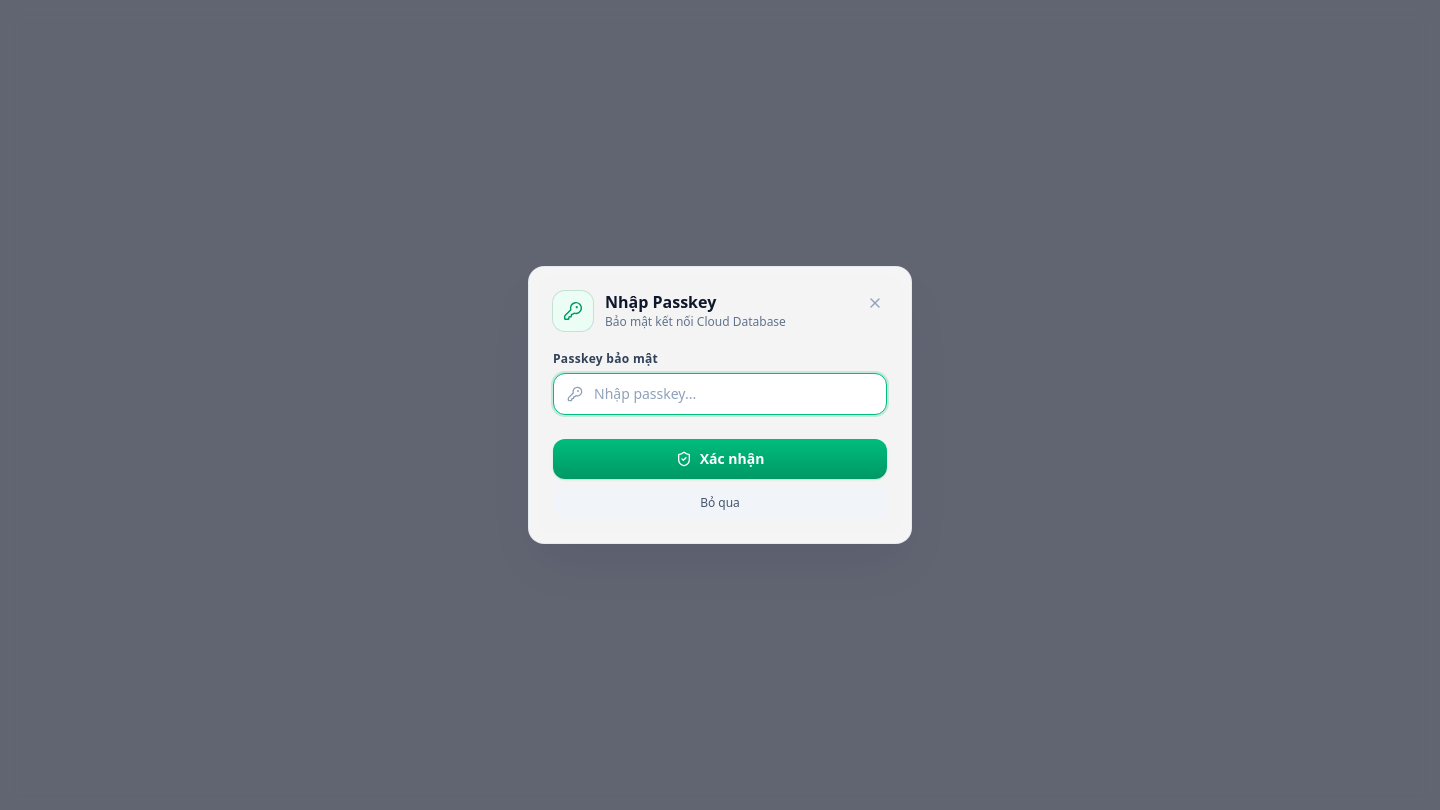
Test case: PasswordGateModal › shows an error and keeps the modal open when the password is wrong
Type "wrong" into the password field with placeholder "Nhập passkey..." at (720, 394), box [553,373,887,415]
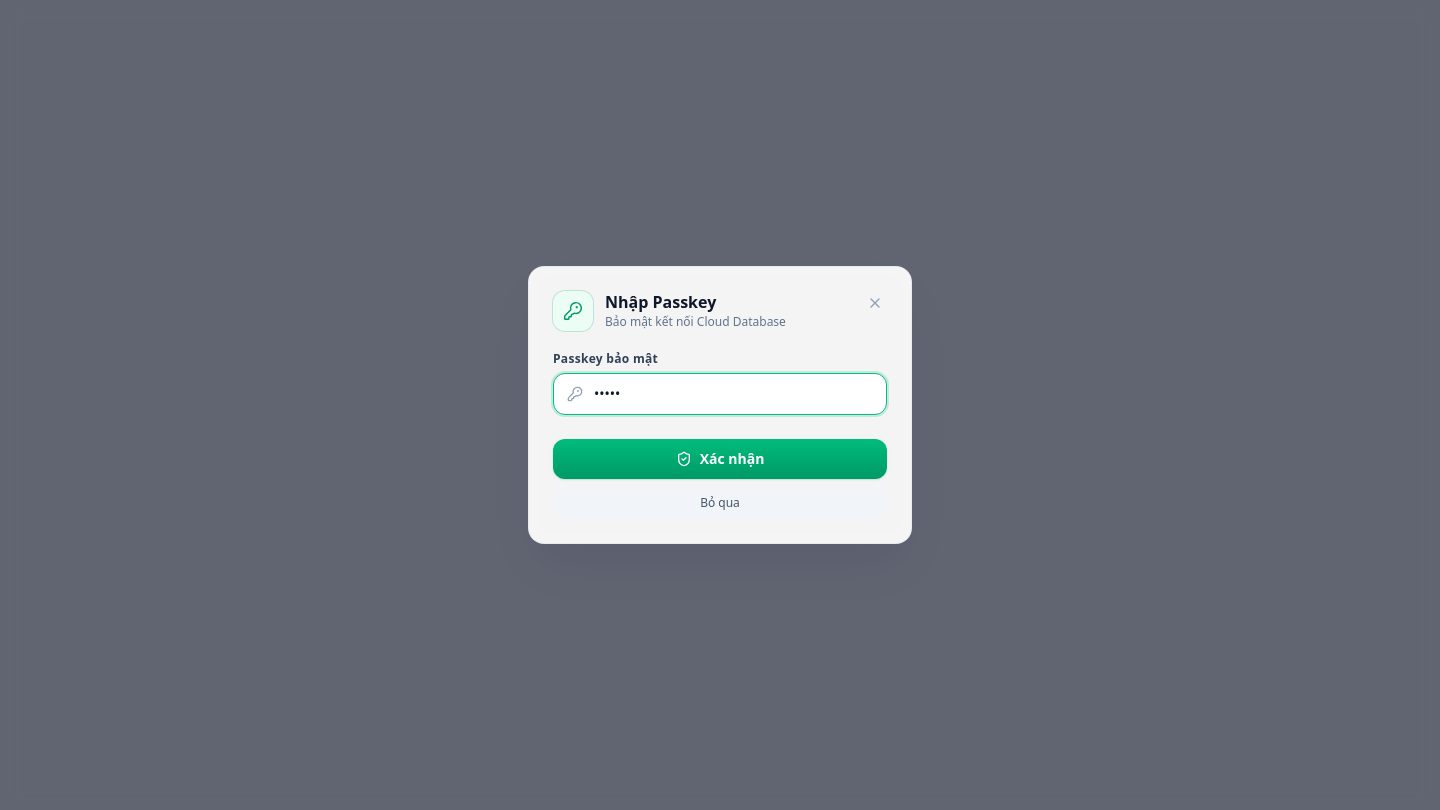
Click the button "Xác nhận" at (720, 459), box [553,439,887,479]
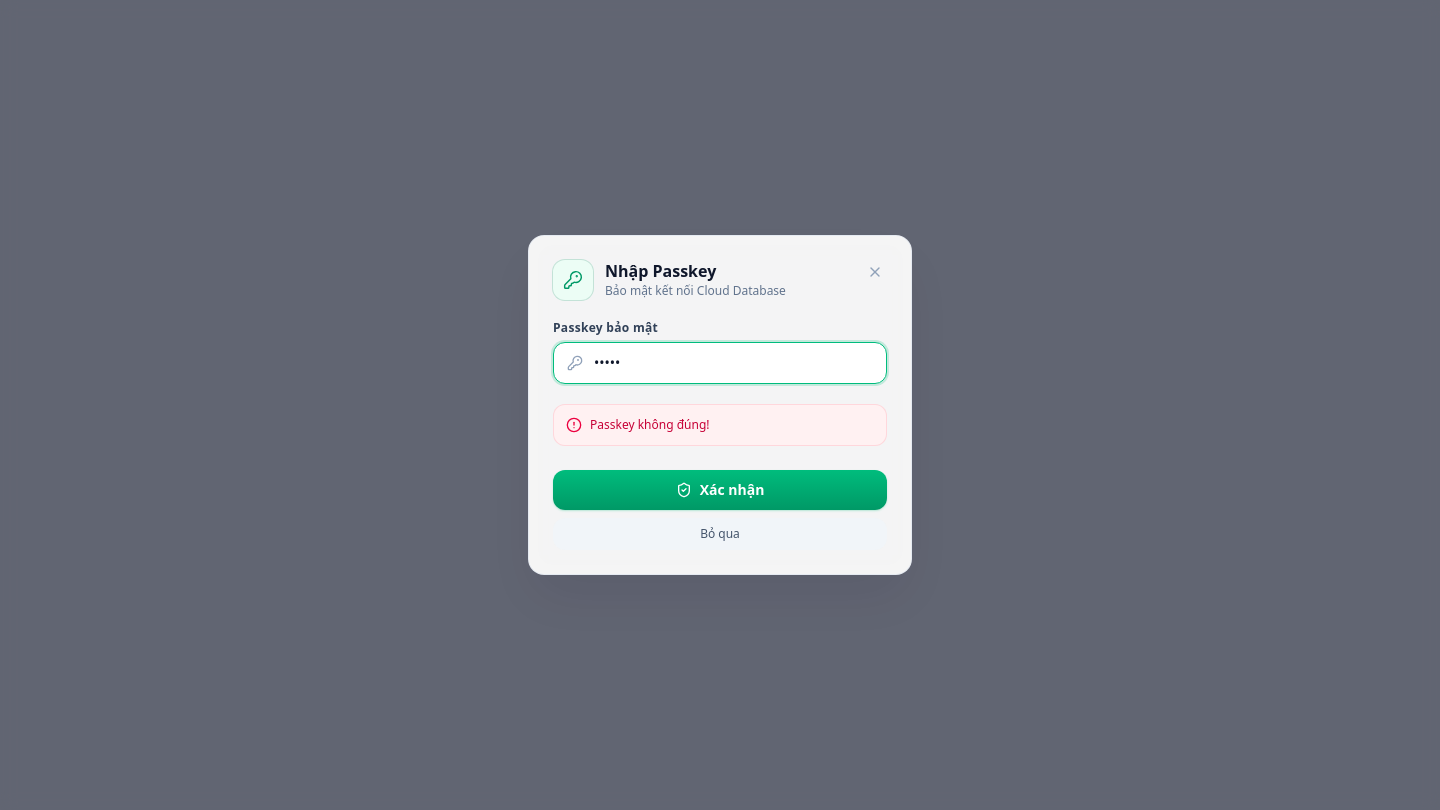
Expected: the text "Passkey không đúng!" is shown, [590,417,710,433]
